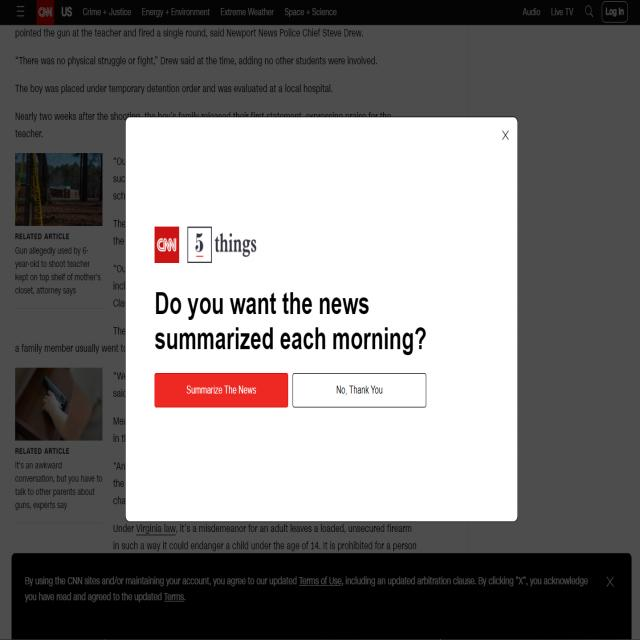sneaking: (150, 282, 434, 416)
